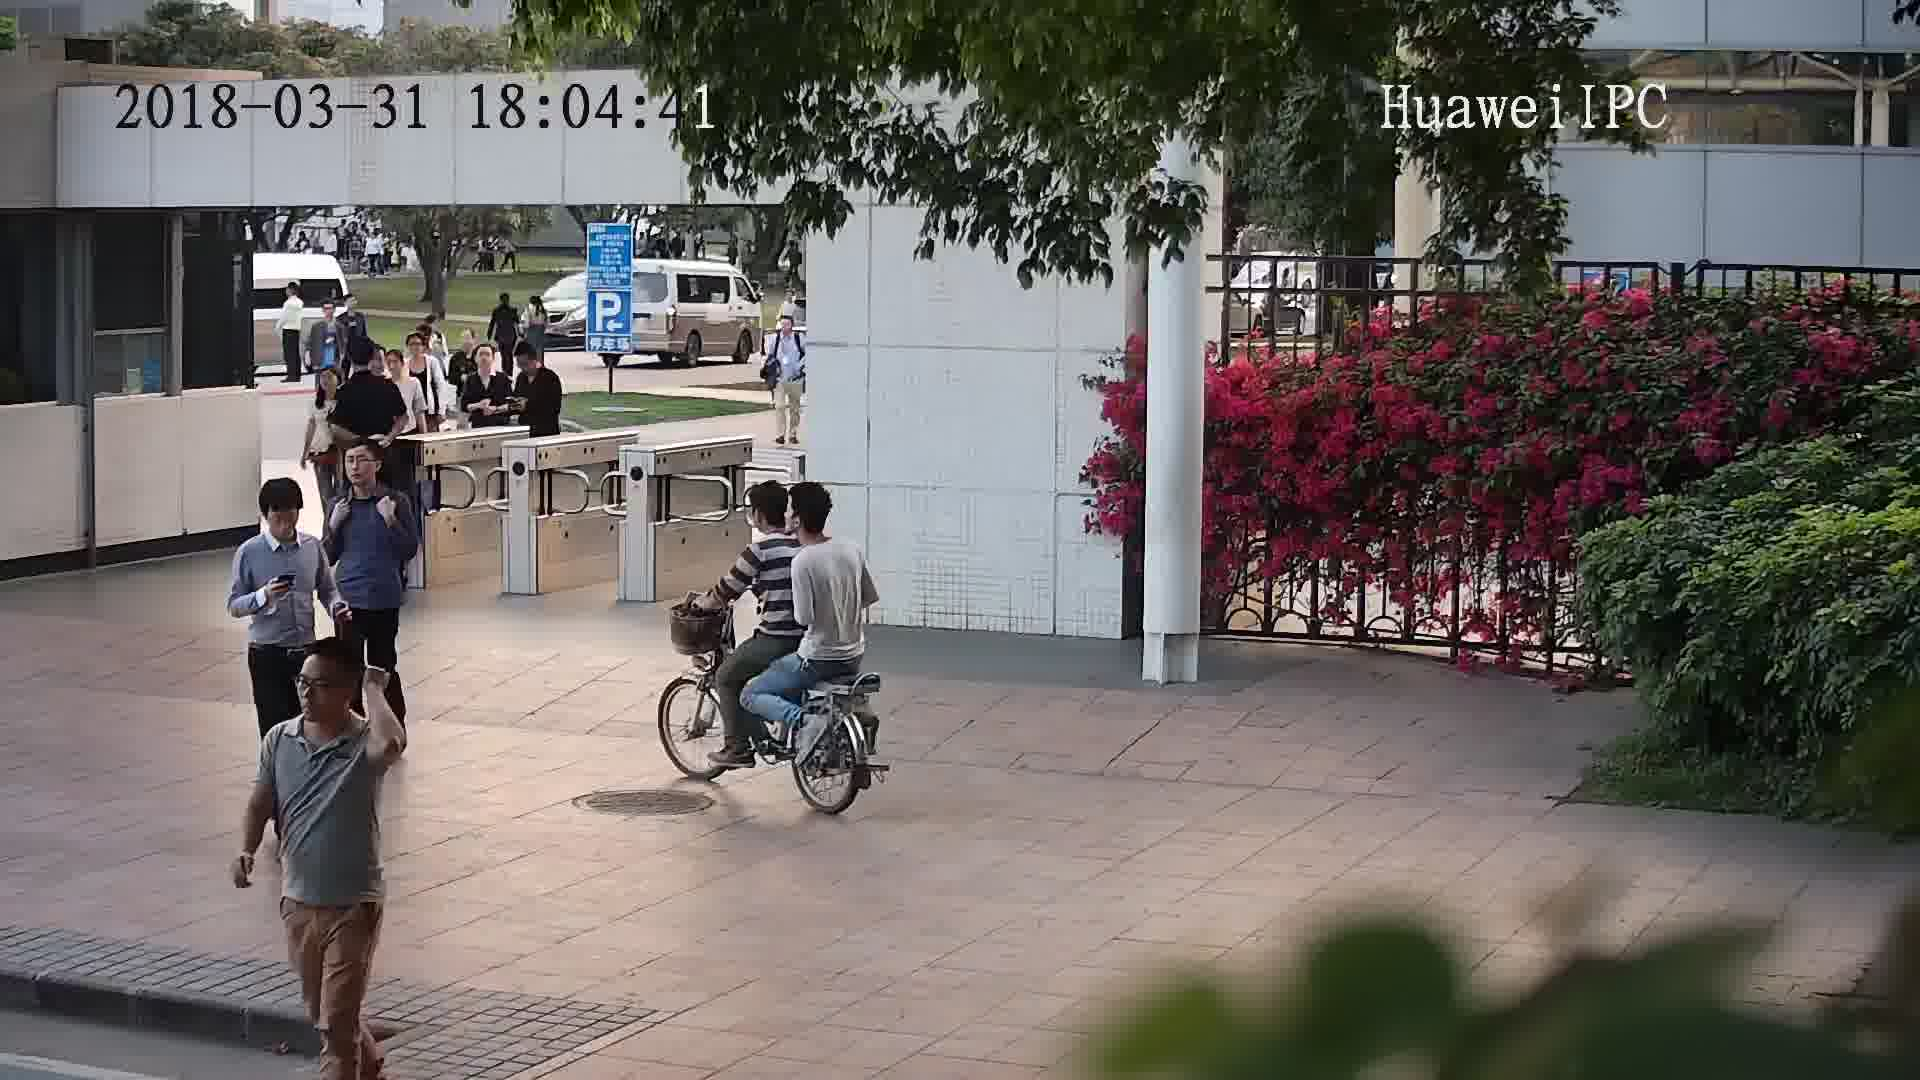face: (286, 655, 355, 724), (339, 443, 377, 489), (262, 505, 299, 542)
person: (259, 636, 381, 761), (238, 475, 327, 569), (787, 481, 861, 576), (326, 438, 409, 512), (737, 478, 800, 568), (343, 340, 393, 399), (462, 342, 511, 391), (403, 329, 443, 385), (513, 340, 561, 387), (382, 348, 421, 404), (307, 362, 350, 412), (308, 299, 346, 337), (772, 308, 806, 344), (333, 286, 364, 323), (281, 278, 308, 310), (518, 291, 548, 318), (492, 290, 520, 318)
